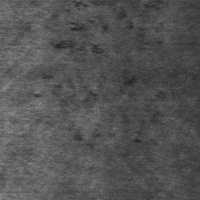rolled-in_scale: (81, 70, 160, 156), (74, 0, 156, 58)
